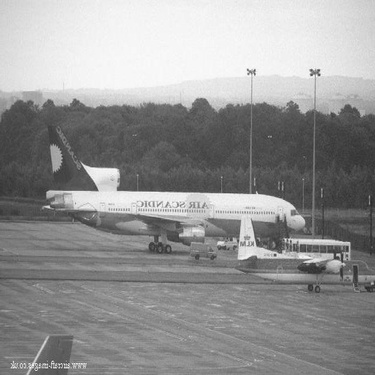airplane: (22, 103, 319, 258), (208, 197, 366, 295)
